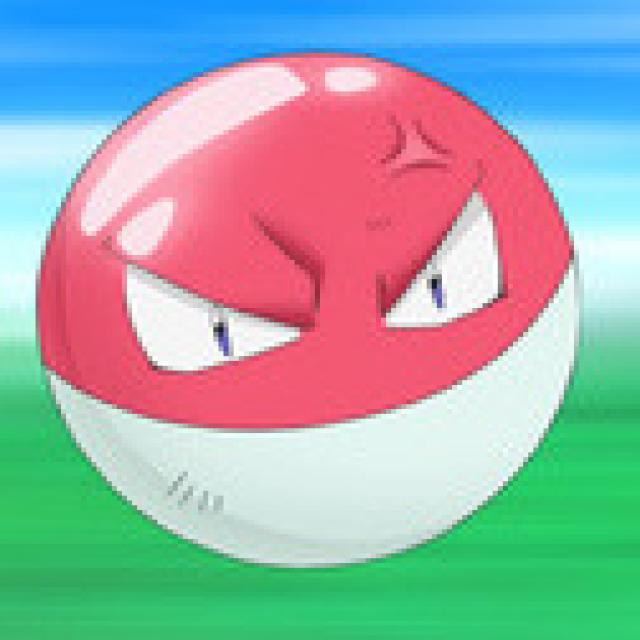Voltorb: (41, 54, 580, 564)
